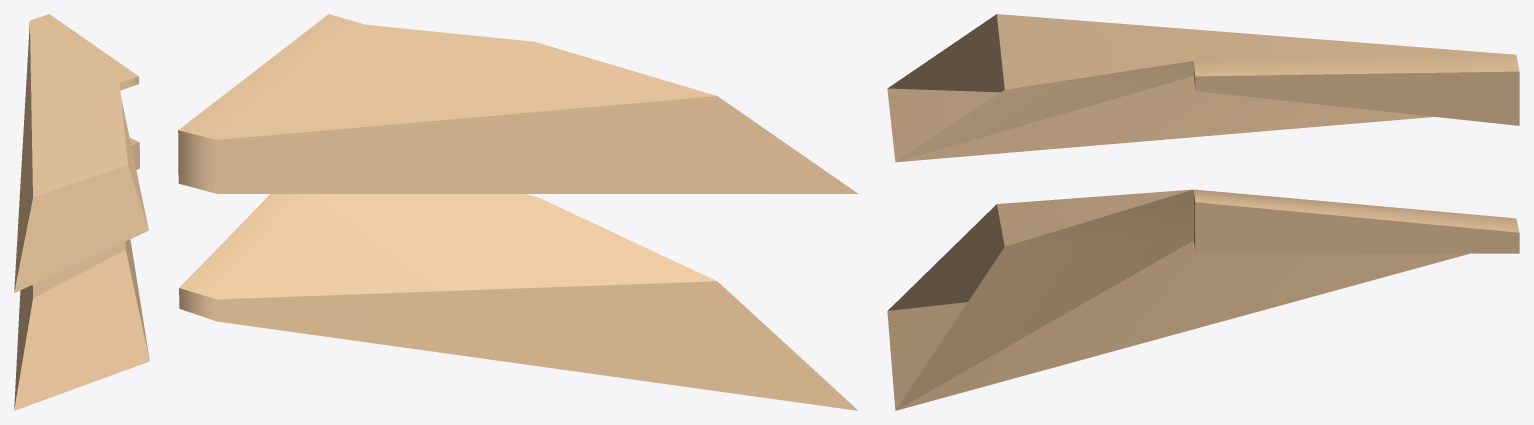
The model's file is AI_FX_LightRay_08.fbx.
3 views of the same model, side by side, from view 1: azimuth 30°, elevation 25°; view 2: azimuth 150°, elevation 25°; view 3: azimuth 270°, elevation 25° (orthographic). The views are drawn at different scales.
Parts seen in each view (by area): view 1: AI_FX_LightRay_08; view 2: AI_FX_LightRay_08; view 3: AI_FX_LightRay_08.
Part boxes in pixels (bbox=[...]): AI_FX_LightRay_08: bbox=[14, 14, 149, 410]; AI_FX_LightRay_08: bbox=[178, 14, 858, 410]; AI_FX_LightRay_08: bbox=[887, 14, 1519, 410].
Bounding box in the file's own units: 2.83 × 2.94 × 3.95.
